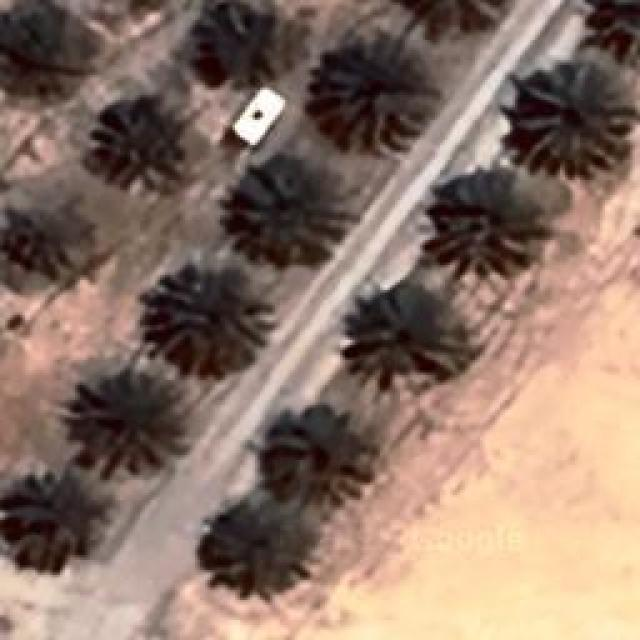PalmTree: (147, 255, 275, 375), (70, 360, 192, 478), (305, 40, 430, 150), (515, 65, 635, 173), (342, 285, 462, 393), (232, 160, 350, 260), (260, 414, 370, 518), (82, 92, 188, 192), (425, 185, 540, 275), (205, 508, 308, 602), (8, 481, 94, 571), (201, 2, 294, 76), (0, 13, 93, 86), (6, 208, 84, 282), (398, 0, 512, 34), (578, 0, 640, 58)
